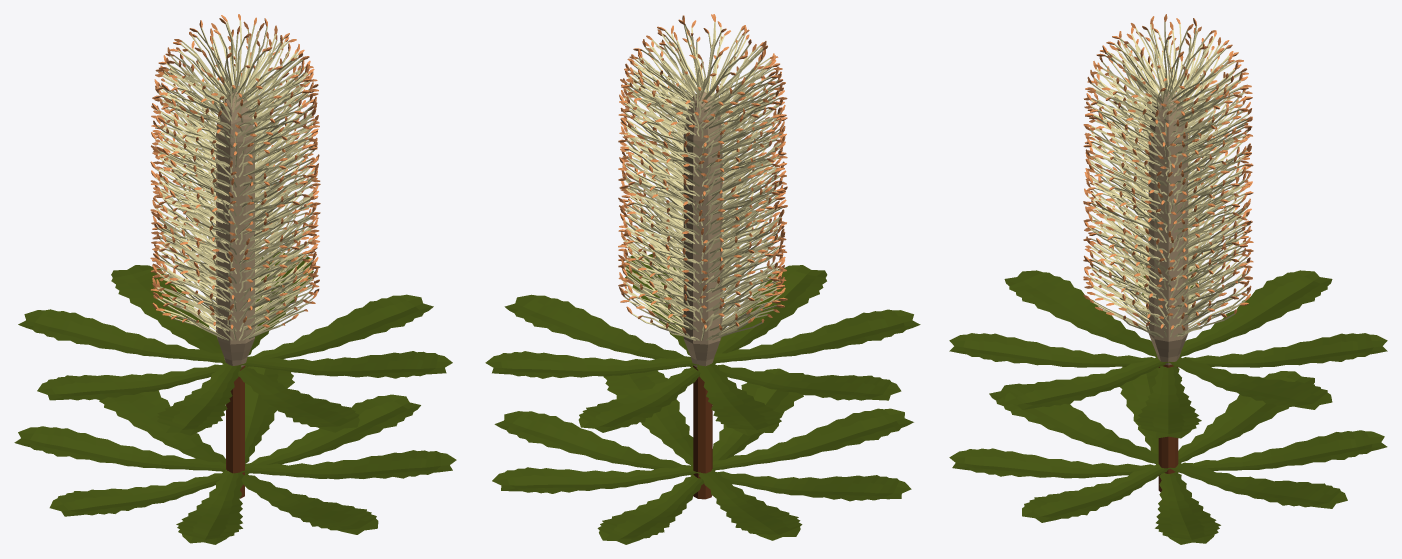
File: prop_au_banksia.glb
3 views of the same model, side by side, from view 1: azimuth 30°, elevation 25°; view 2: azimuth 150°, elevation 25°; view 3: azimuth 270°, elevation 25° (orthographic).
Parts seen in each view (by area): view 1: HP Spike, Plane.007, Plane.003, Plane, Plane.004, LP Spike, Plane.001, Plane.005, Plane.006, Plane.002, Stem, LP Spike Base; view 2: HP Spike, Plane.006, Plane.002, Plane, Plane.004, LP Spike, Plane.001, Plane.007, Plane.005, Plane.003, Stem, LP Spike Base; view 3: HP Spike, Plane.002, Plane.003, Plane.005, Plane.001, Plane.006, LP Spike, Plane.007, Plane.004, Plane, Stem, LP Spike Base.
Part boxes in pixels (left/top/right/bottom): HP Spike: left=150, top=14, right=320, bottom=340; Plane.007: left=14, top=426, right=456, bottom=479; Plane.003: left=18, top=309, right=452, bottom=378; Plane: left=37, top=294, right=433, bottom=400; Plane.004: left=49, top=394, right=420, bottom=516; LP Spike: left=216, top=92, right=254, bottom=344; Plane.001: left=111, top=265, right=359, bottom=432; Plane.005: left=99, top=390, right=378, bottom=534; Plane.006: left=176, top=366, right=294, bottom=544; Plane.002: left=157, top=251, right=313, bottom=435; Stem: left=226, top=366, right=245, bottom=498; LP Spike Base: left=218, top=338, right=254, bottom=367; HP Spike: left=618, top=14, right=787, bottom=340; Plane.006: left=492, top=408, right=913, bottom=493; Plane.002: left=485, top=309, right=920, bottom=378; Plane: left=504, top=294, right=901, bottom=400; Plane.004: left=494, top=411, right=911, bottom=501; LP Spike: left=683, top=92, right=722, bottom=344; Plane.001: left=578, top=265, right=827, bottom=432; Plane.007: left=603, top=370, right=802, bottom=540; Plane.005: left=597, top=368, right=804, bottom=544; Plane.003: left=625, top=253, right=781, bottom=435; Stem: left=693, top=365, right=712, bottom=499; LP Spike Base: left=684, top=339, right=719, bottom=367; HP Spike: left=1083, top=14, right=1253, bottom=337; Plane.002: left=1004, top=270, right=1332, bottom=409; Plane.003: left=1004, top=270, right=1332, bottom=409; Plane.005: left=949, top=430, right=1387, bottom=478; Plane.001: left=949, top=333, right=1387, bottom=367; Plane.006: left=989, top=383, right=1347, bottom=508; LP Spike: left=1148, top=91, right=1188, bottom=341; Plane.007: left=1022, top=371, right=1314, bottom=522; Plane.004: left=1120, top=367, right=1220, bottom=544; Plane: left=1135, top=257, right=1201, bottom=438; Stem: left=1158, top=364, right=1178, bottom=492; LP Spike Base: left=1149, top=334, right=1187, bottom=365.
Bounding box in the file's own units: 22.01 × 25.78 × 22.01.
